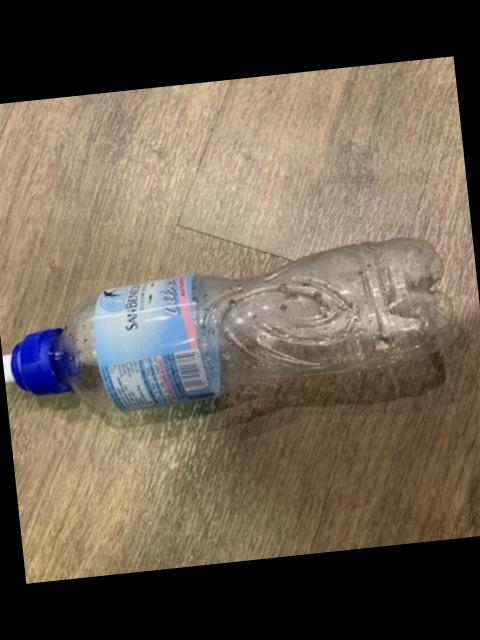plastic: (3, 241, 450, 413)
